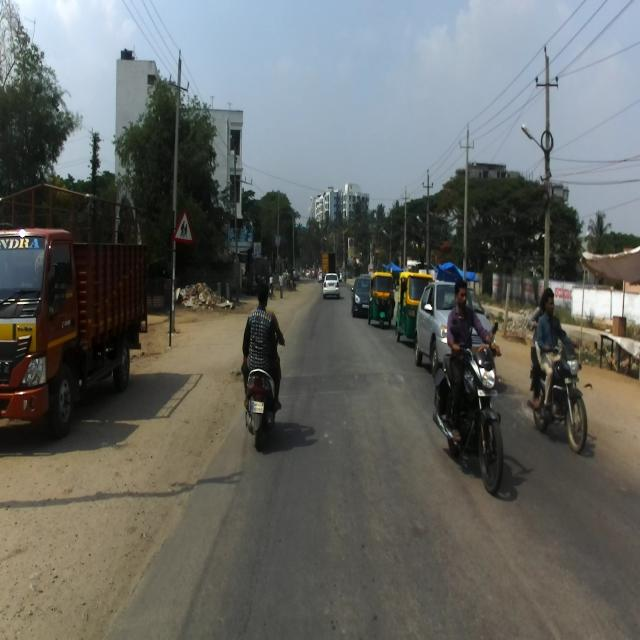Car_TATA: (414, 280, 494, 376)
autorickshaw: (394, 271, 429, 350), (367, 270, 397, 330)
motorcycle_Hero: (526, 326, 588, 452)
motorcycle_Honda: (432, 319, 504, 495)
scooter: (240, 330, 285, 451)
truck: (0, 180, 148, 436)
